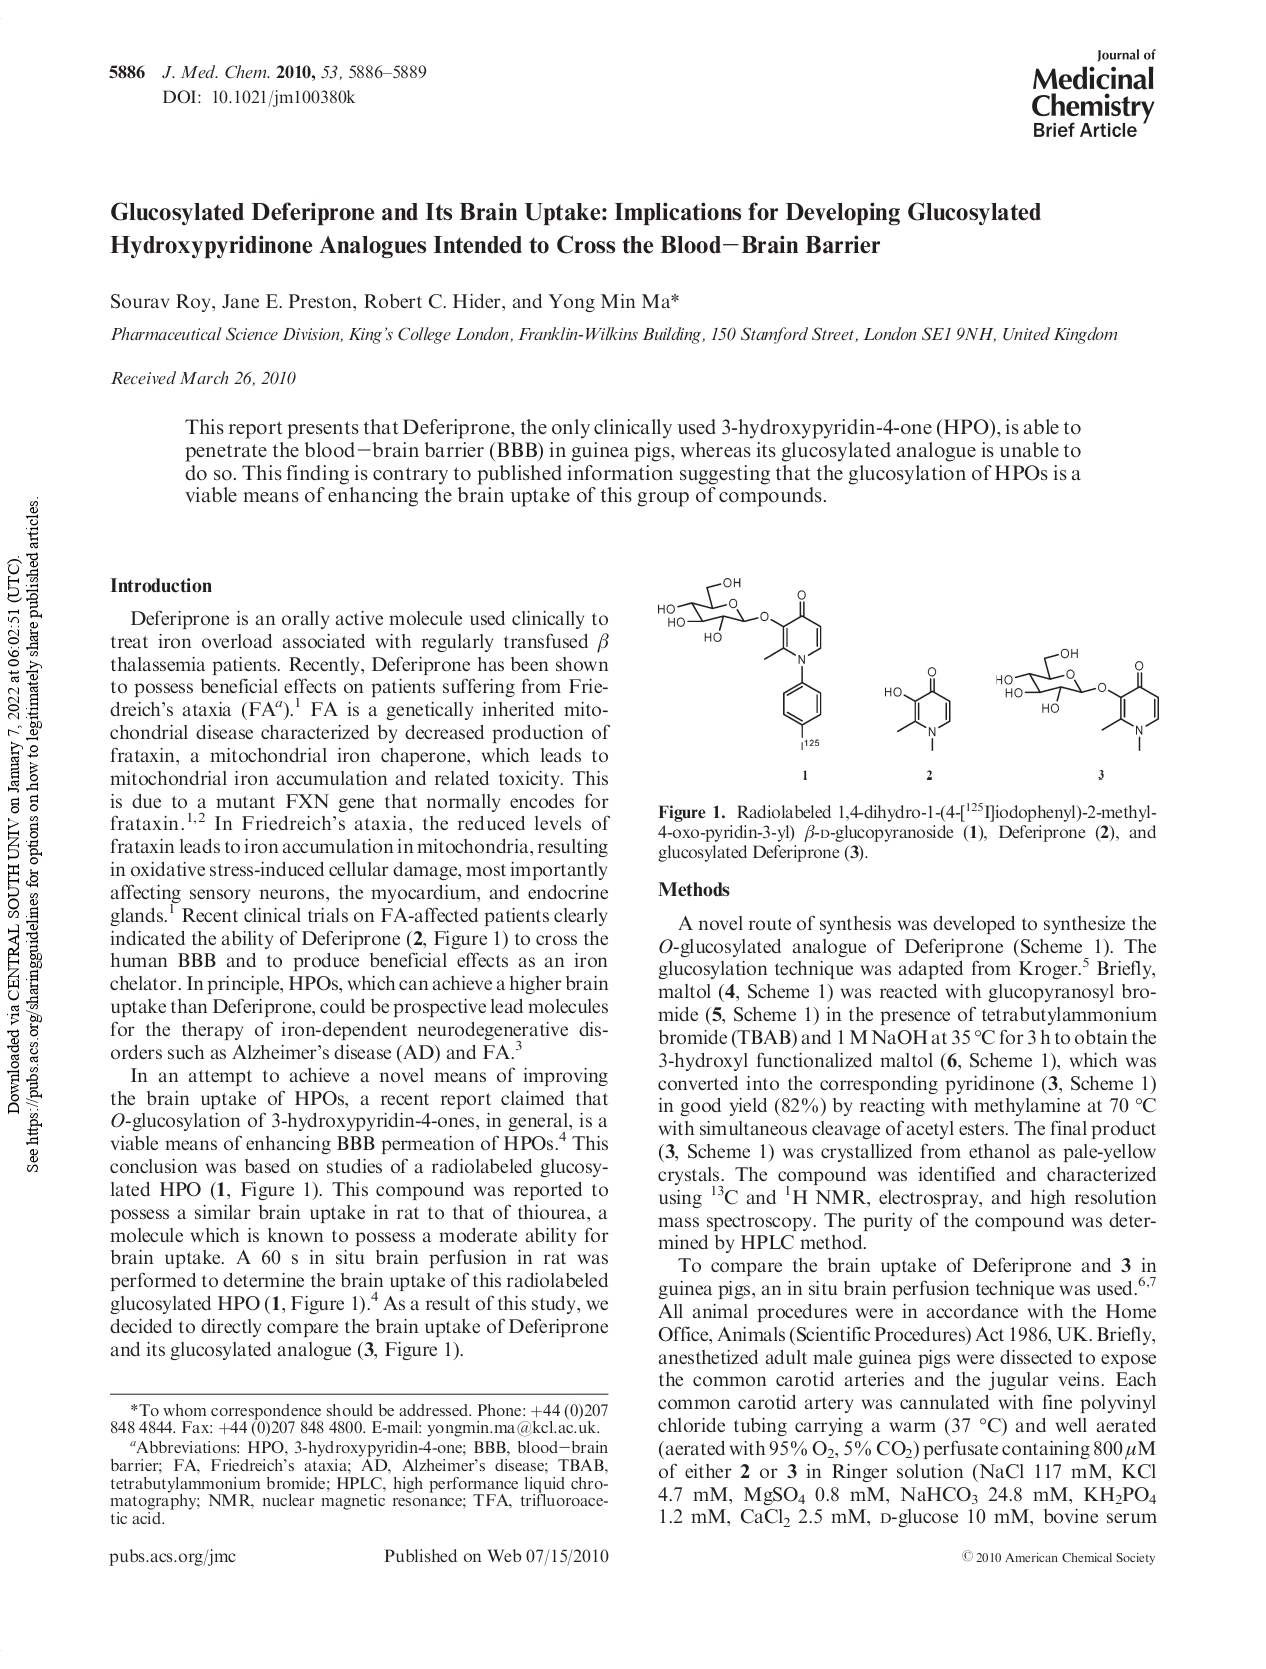exist_molecular: (656, 572, 826, 751), (993, 648, 1164, 751), (884, 668, 953, 751)
